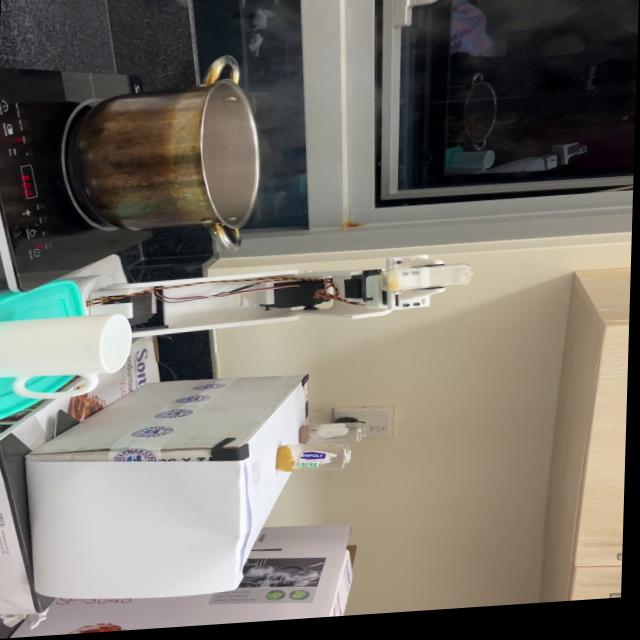cooking_pot: (68, 58, 264, 267)
curry_powder: (282, 450, 302, 475)
maggie_open: (292, 429, 317, 449)
